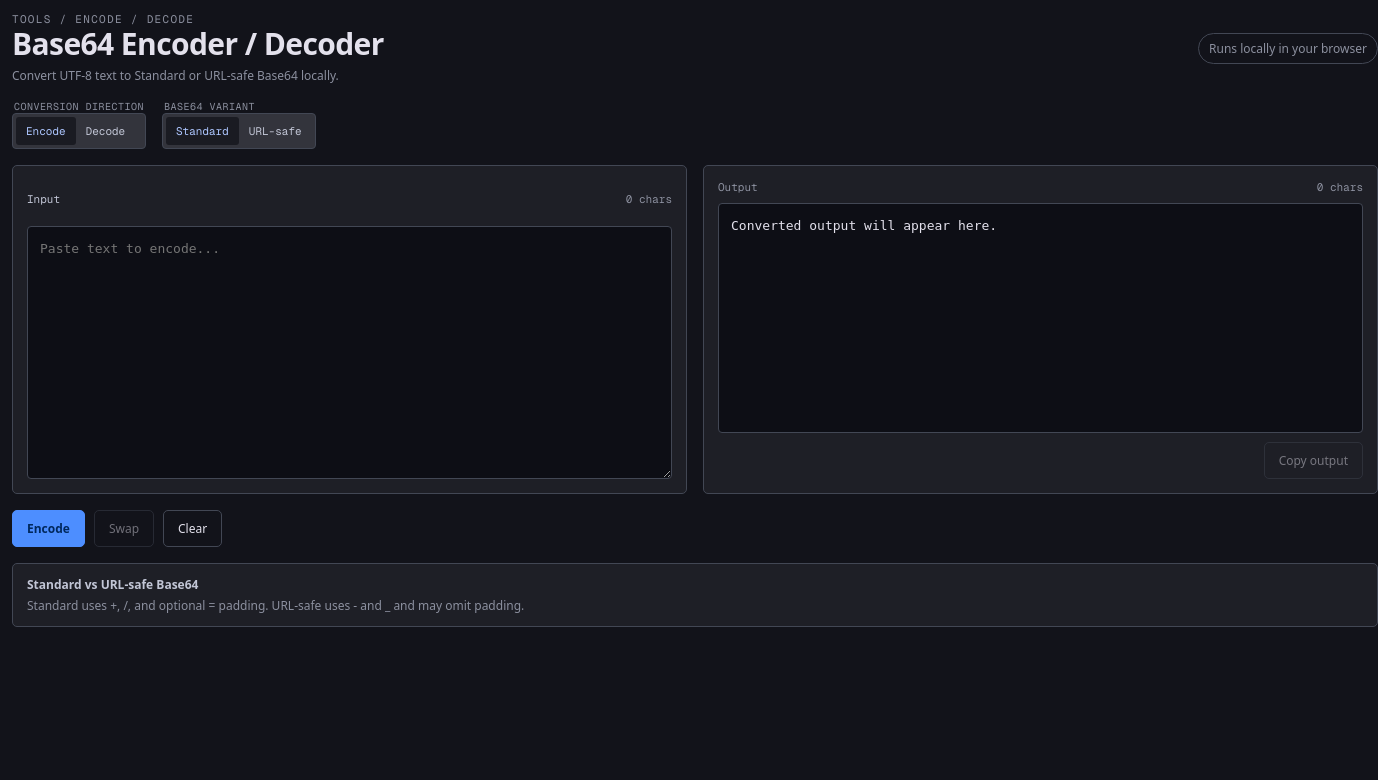
Test: Base64 Encoder / Decoder - Level 2 realistic/intermediate › swaps a successful output into input and reverses conversion direction
Type "Hello" into the text box labelled "Input". click: (350, 352)
box: [27, 226, 672, 479]
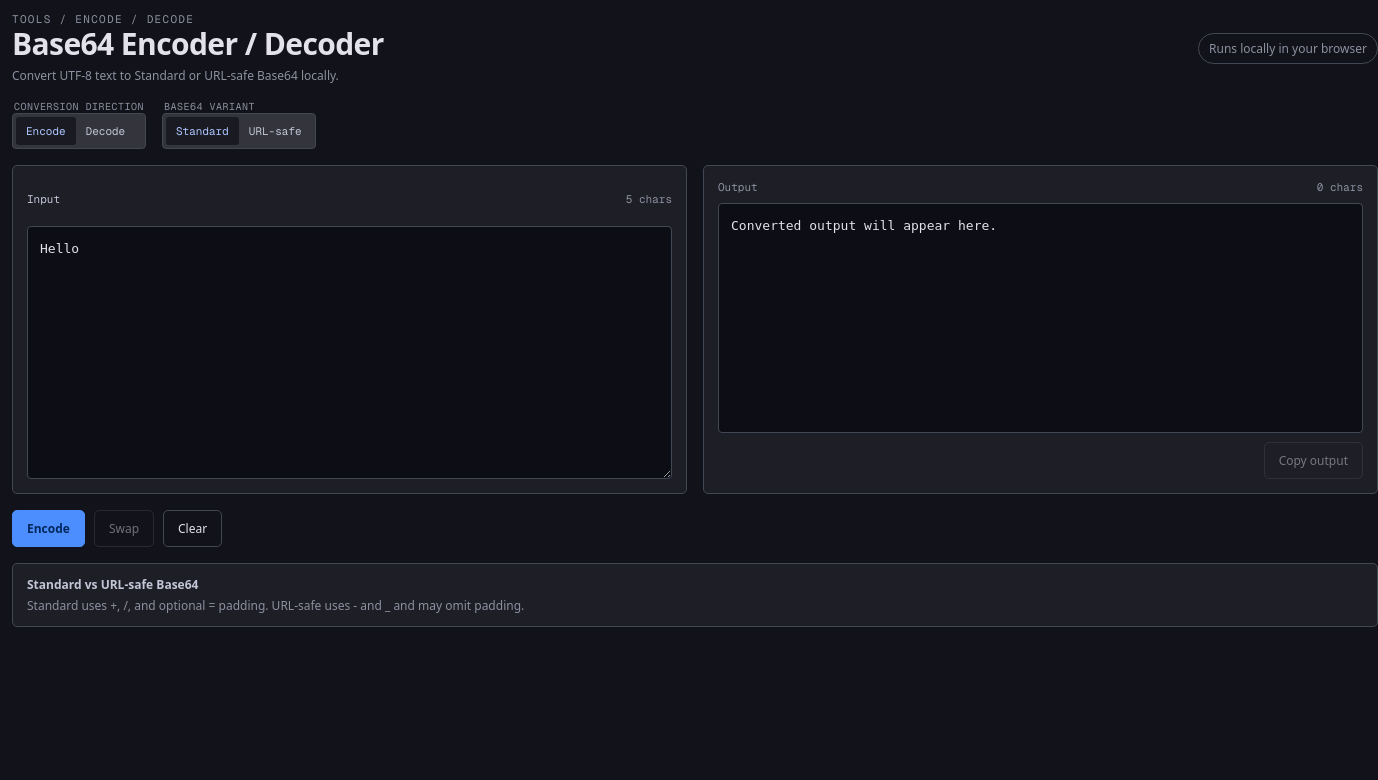
Click the button with aria-label "Encode Base64". click: (48, 528)
box: [12, 510, 85, 547]
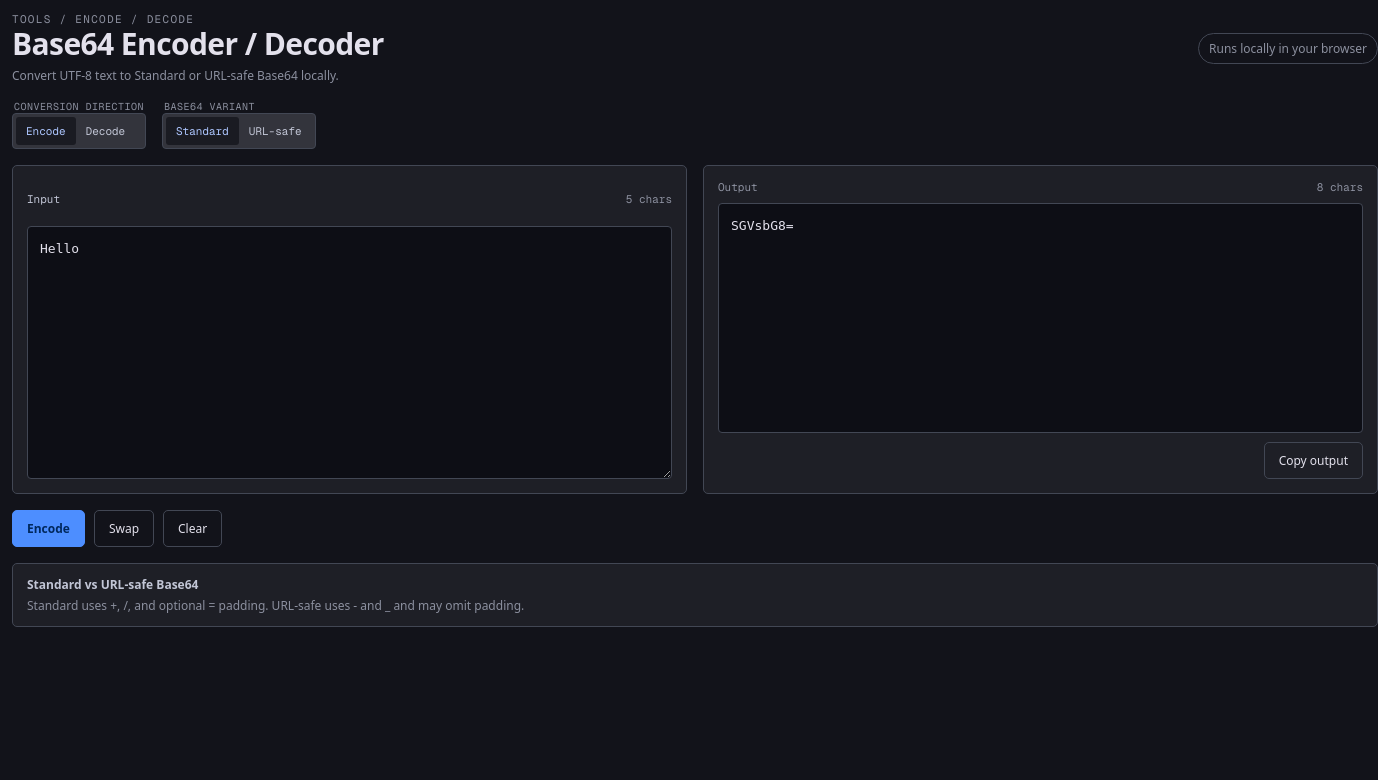
Click the button "Swap". click: (124, 528)
box: [94, 510, 154, 547]
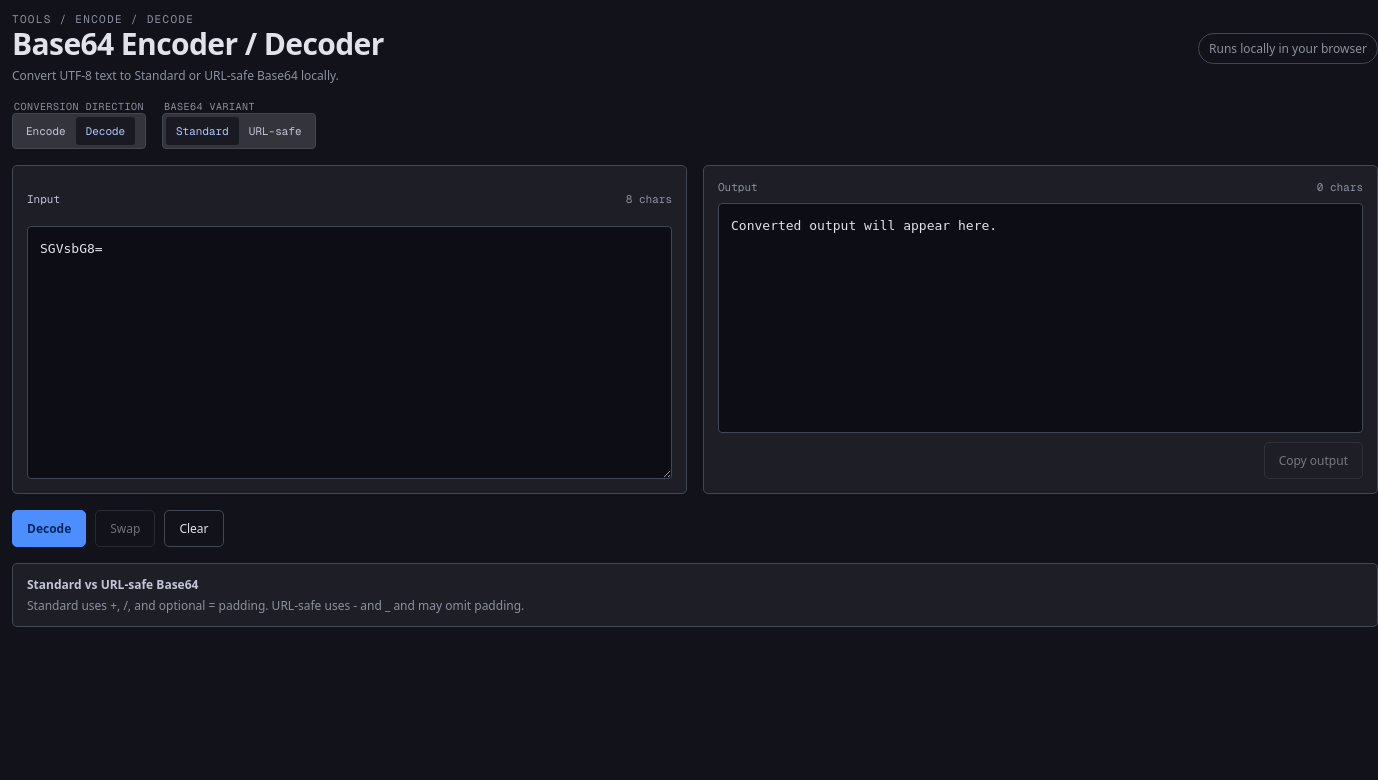
Check: the text box labelled "Input" holds "SGVsbG8=", box [27, 226, 672, 479]
Click the button with aria-label "Decode Base64". click: (49, 528)
box: [12, 510, 86, 547]
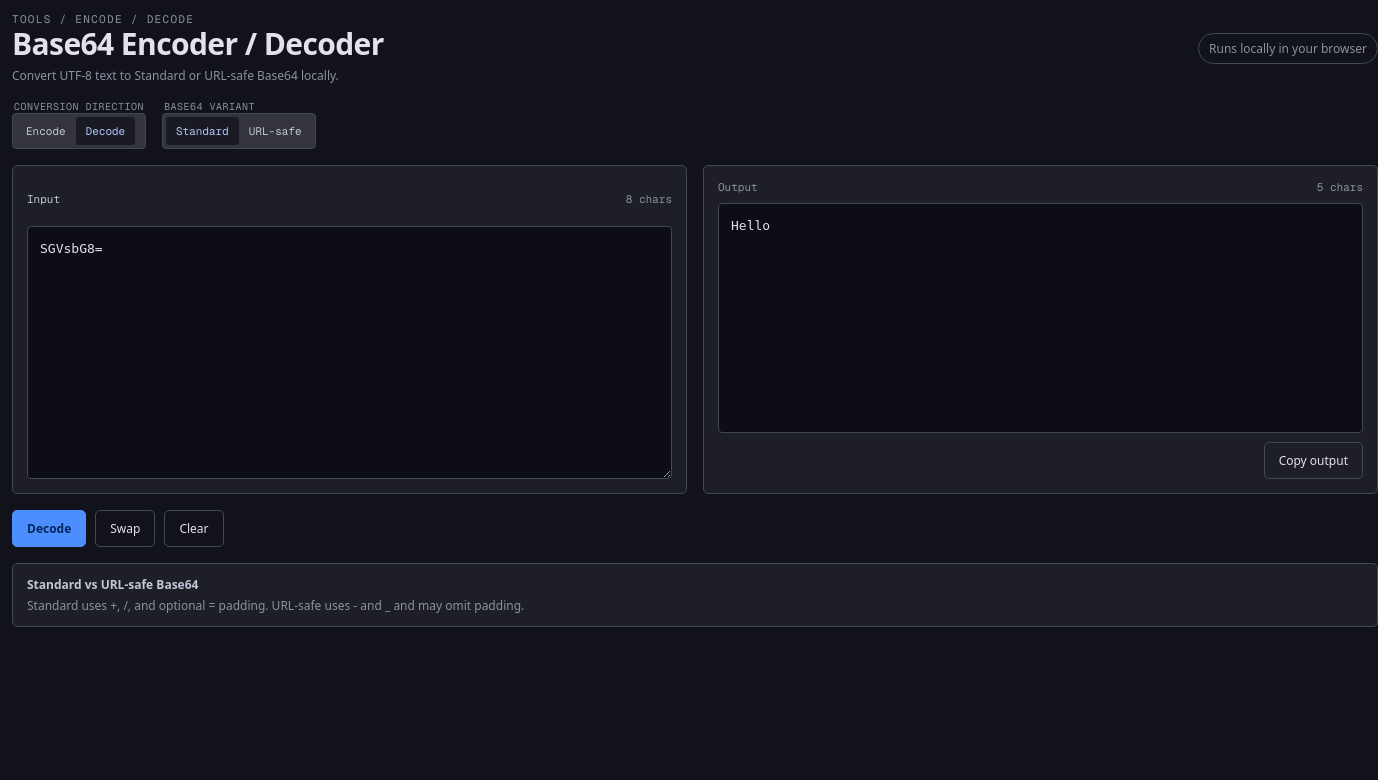
Check: the element named "Base64 output editor" shows "Hello", box [731, 218, 770, 233]
